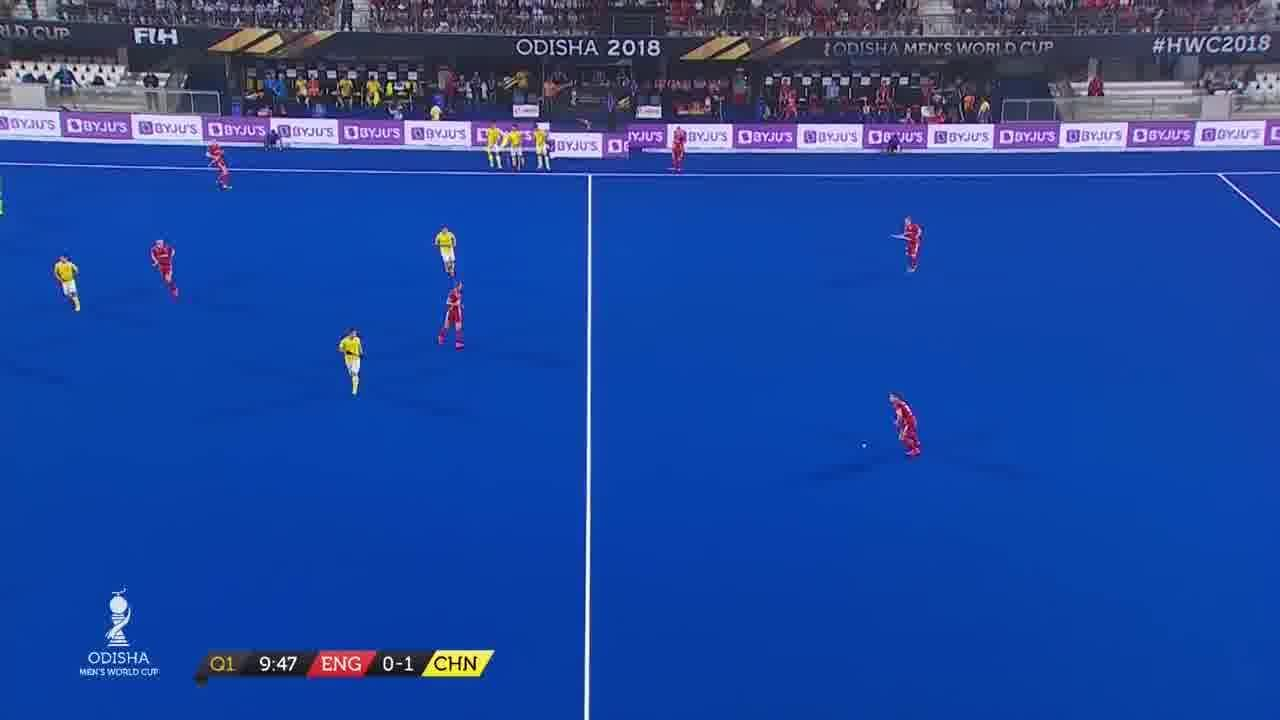ball: (856, 439, 870, 450)
